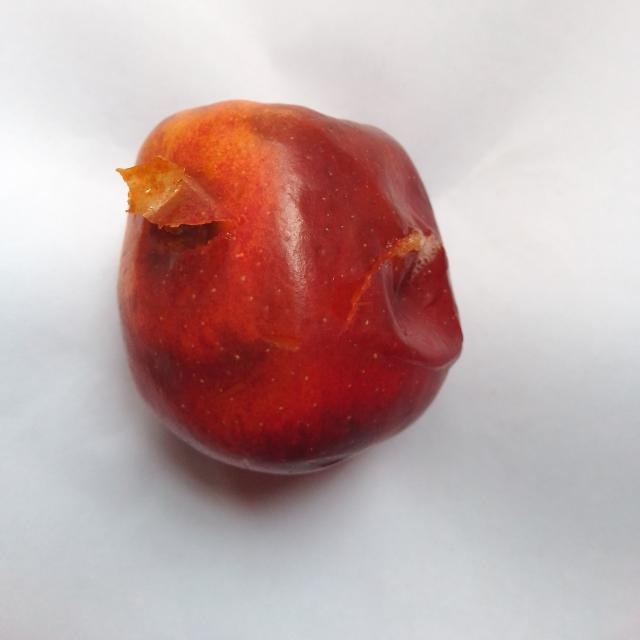apple: (118, 101, 462, 472)
